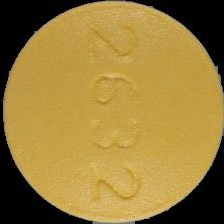76237-143: (0, 0, 224, 224)
